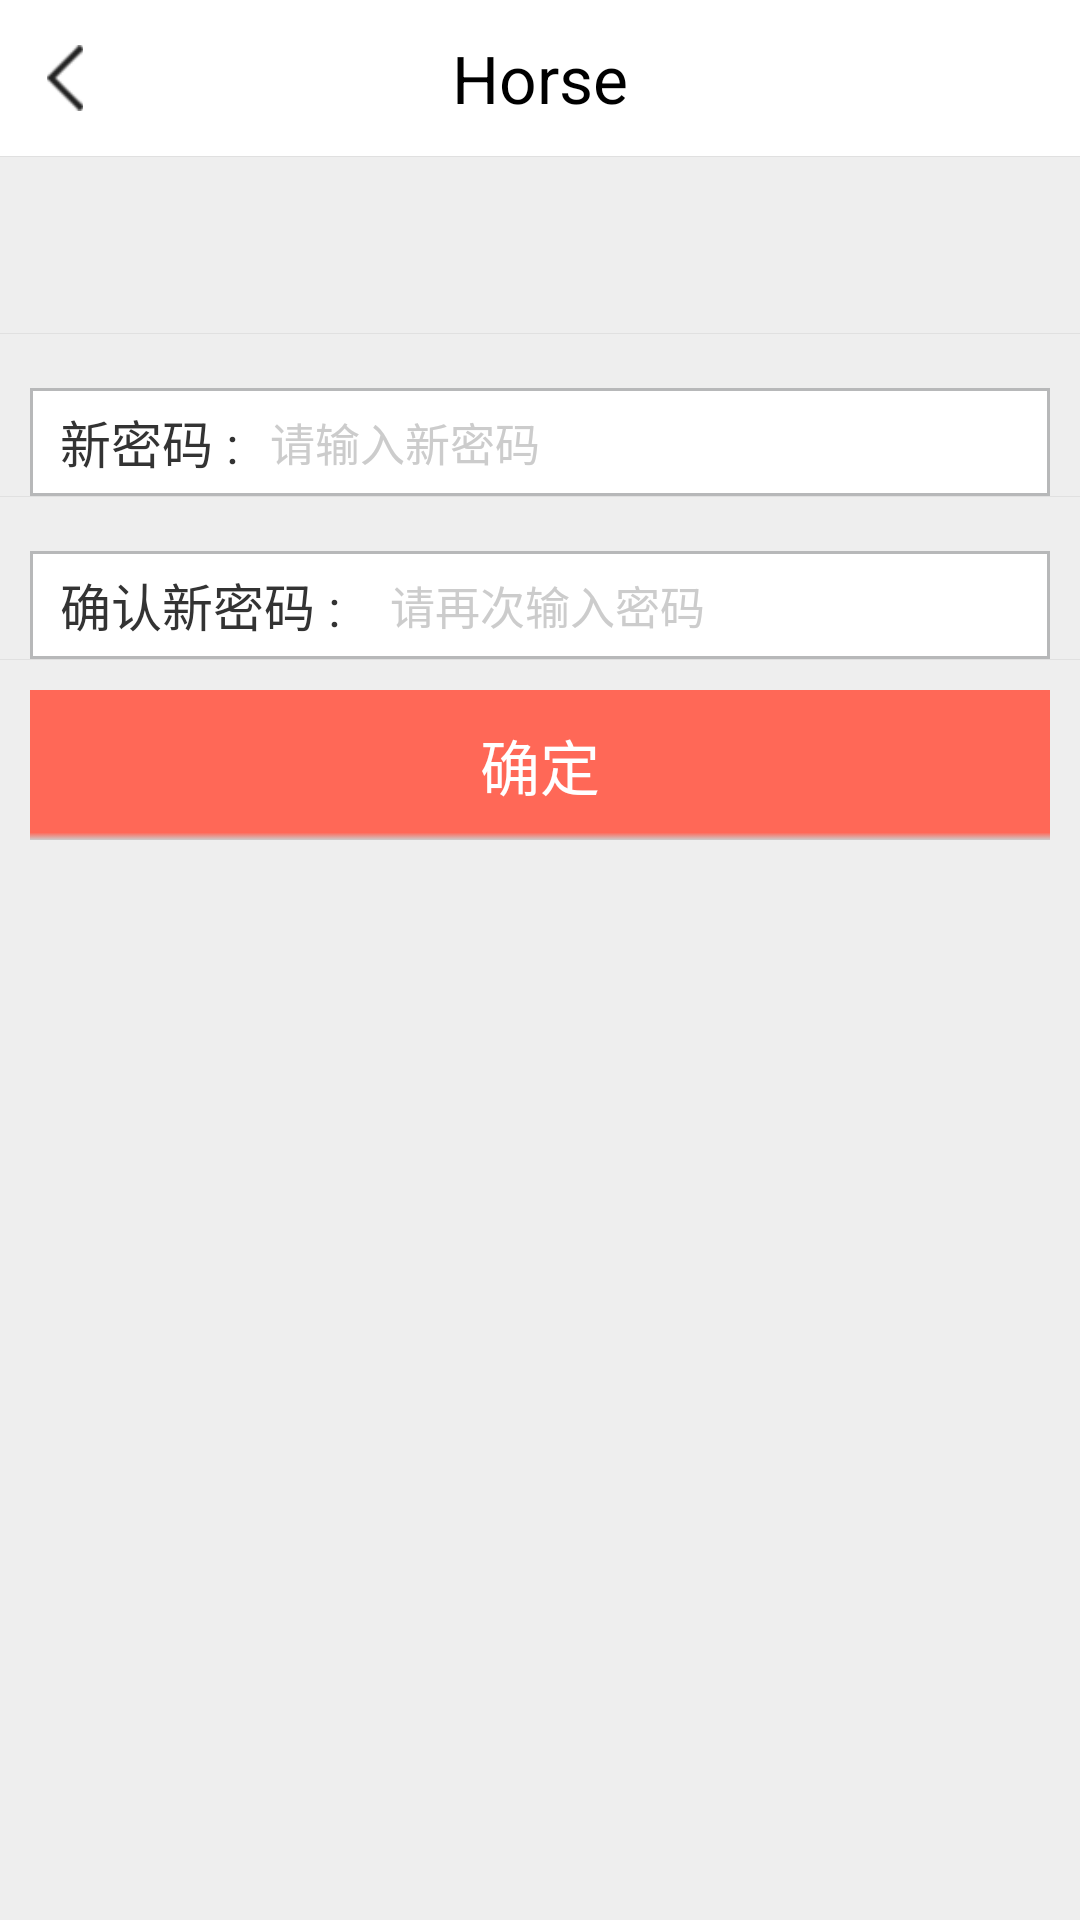

Screen size 1080*1920. Icon name, then its center in pixels as point (x, y):
back focus weex: point (65, 78)
